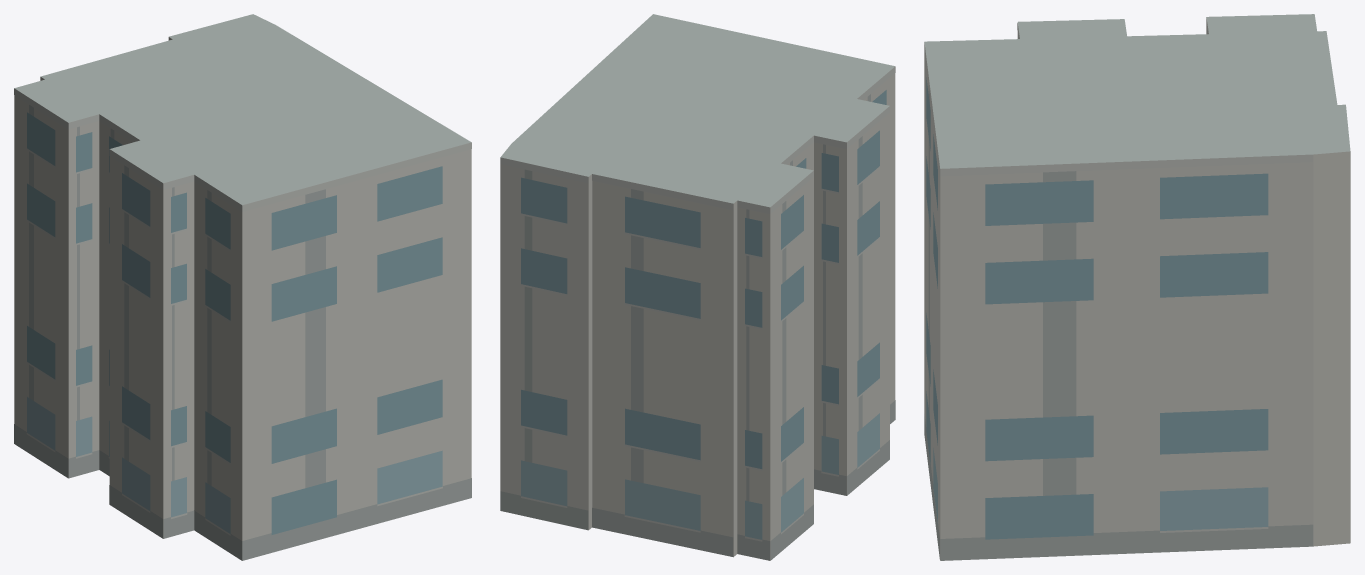
Rendered from survey-upis-32999423.glb.
The picture shows the model from 3 angles, left to right: view 1: azimuth 30°, elevation 25°; view 2: azimuth 150°, elevation 25°; view 3: azimuth 270°, elevation 25°; orthographic projection. The views are drawn at different scales.
Visible parts, largest first — view 1: survey-upis-32999423.tmp; view 2: survey-upis-32999423.tmp; view 3: survey-upis-32999423.tmp.
Part boxes in pixels (box(x1,y1,x2,y2)): survey-upis-32999423.tmp: box(14, 14, 471, 560); survey-upis-32999423.tmp: box(500, 14, 895, 560); survey-upis-32999423.tmp: box(924, 14, 1350, 560).
Size of the model in its own units: 10.77 by 12.7 by 12.52.
